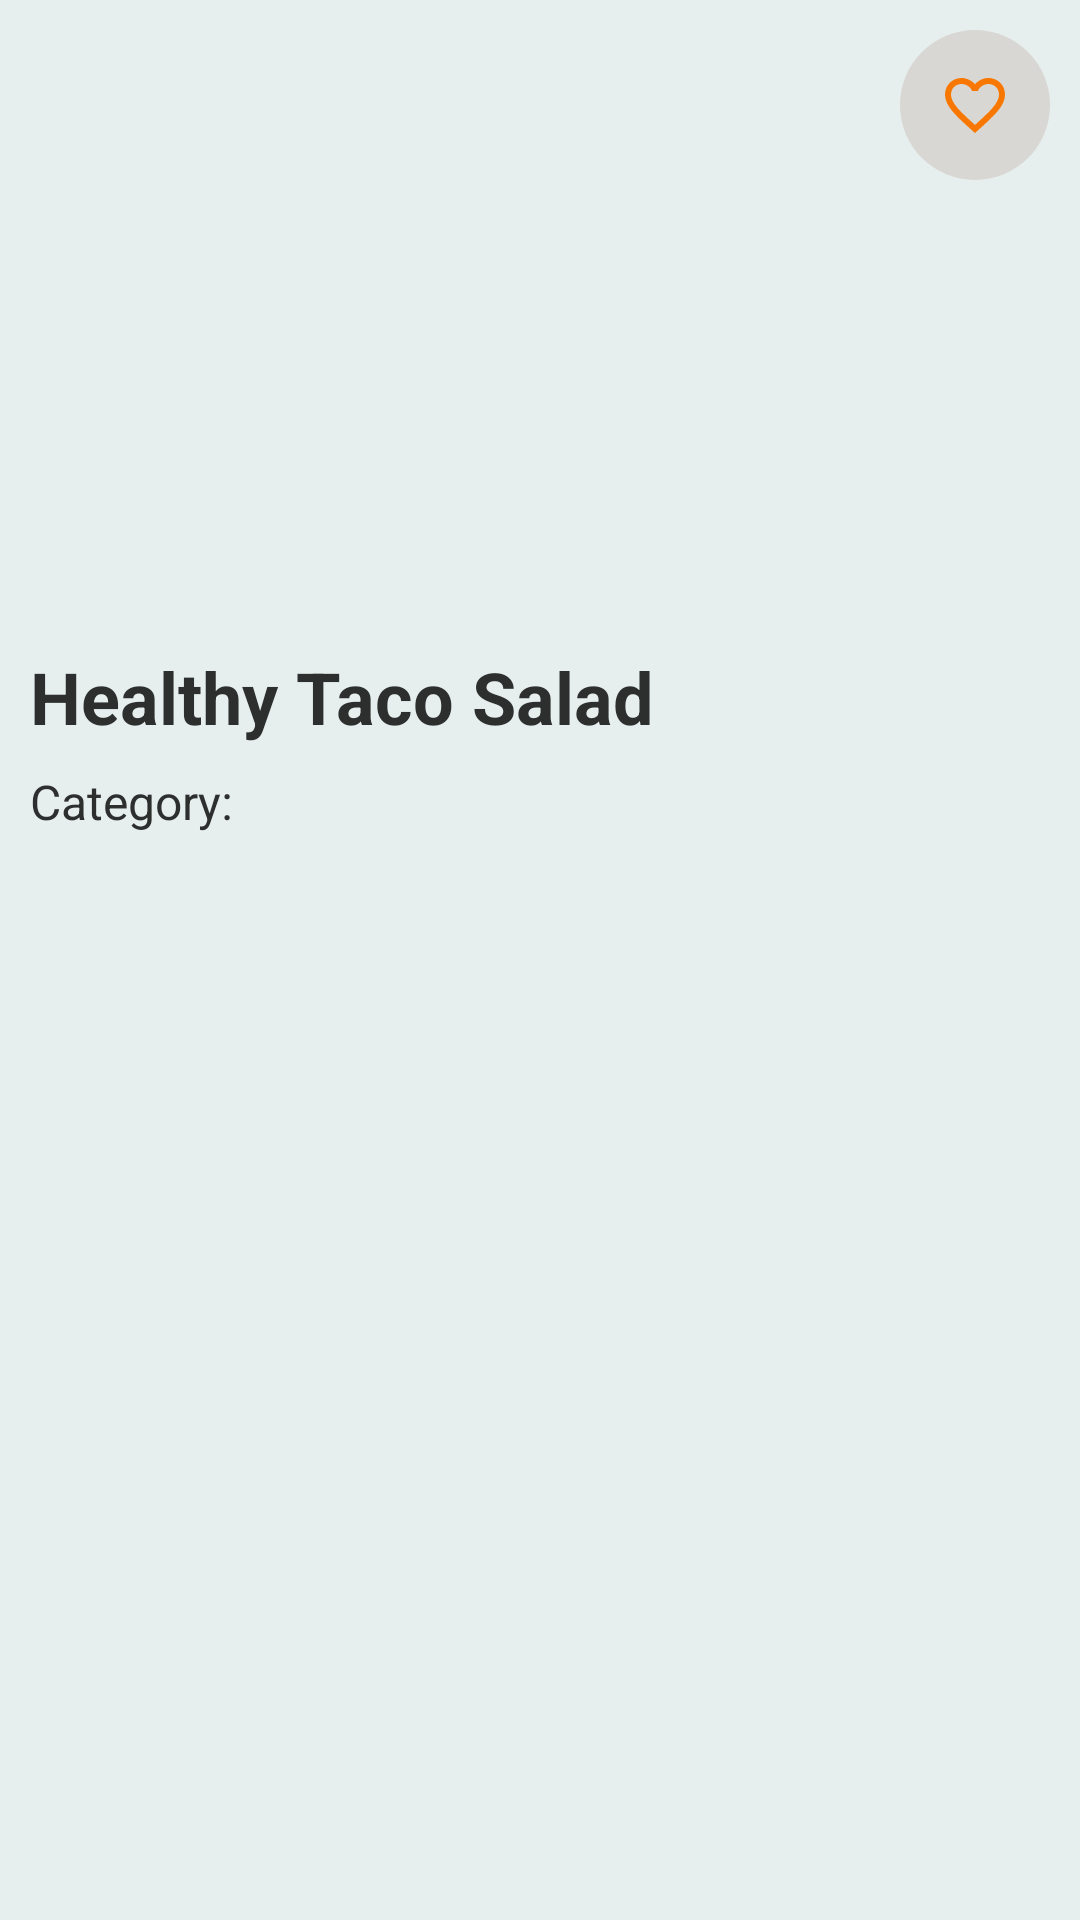

Screen size 1080x1920. Icon name, then its center in pixels as (x=x, y=y):
Favorite: (x=975, y=105)
